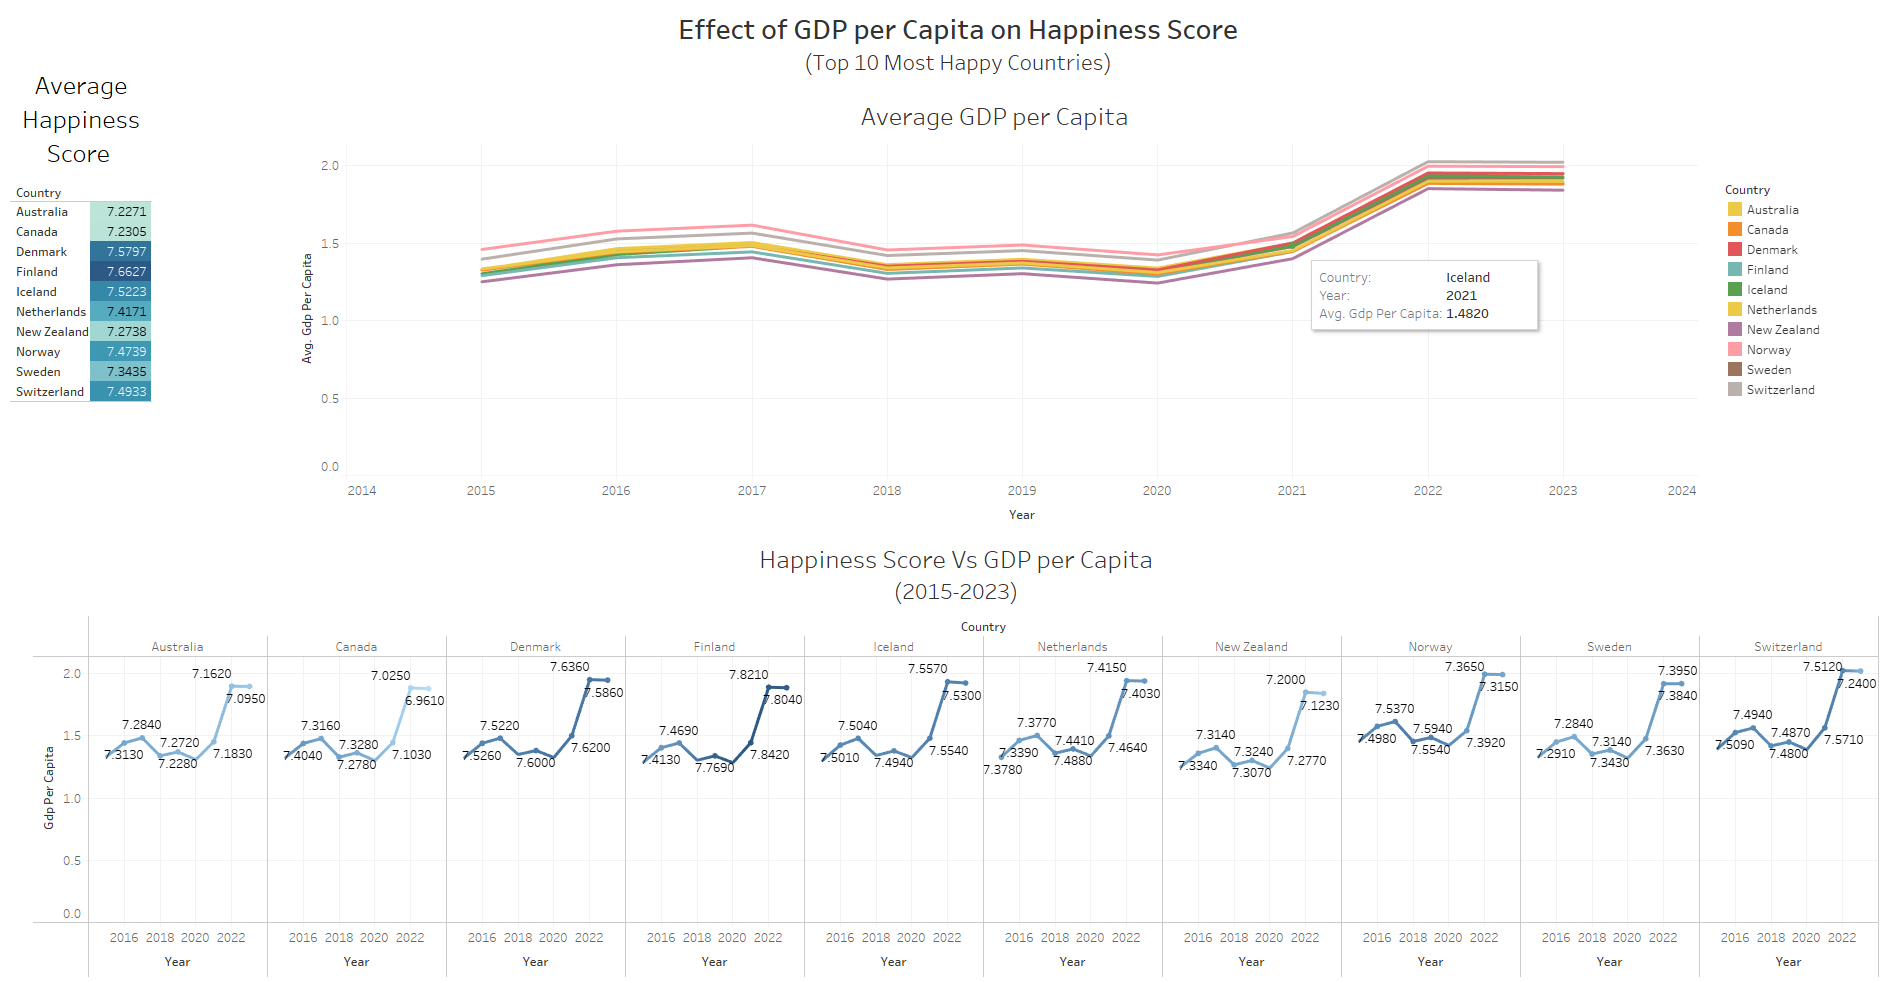

The dashboard page shown, as its layout file describes it:
{"tool":"tableau","page":{"name":"Happiness GDP Effect","canvas":[1000,1000],"units":"permille","ordinal":1},"visuals":[{"type":"title","box":[7,8,986,74]},{"type":"worksheet","title":"Top 10 Avg Happiness","mark":"Square","rows":["country"],"box":[6.1,65,145.1,459]},{"type":"worksheet","title":"Top 10 Happiness Avg GDP","mark":"Automatic","rows":["gdp_per_capita"],"cols":["year"],"box":[152.7,96,733,431]},{"type":"legend","title":"Top 10 Happiness Avg GDP","param":"[federated.1nnb5s81987nmd13ryej518t1e0h].[none:country:nk]","box":[899.5,181,90,242]},{"type":"worksheet","title":"Top 10 Happiness GDP by Country","mark":"Automatic","rows":["gdp_per_capita"],"cols":["country","year"],"box":[18.5,534.9,961.5,445.3]}]}

Visuals, with their boxes on the dashboard's canvas, which has no fixed pixel size, in thousandths of its width and height (x1, y1, x2, y2). These are canvas units, not pixel positions in the 1888x983 screenshot, which may show the page scaled, cropped or inside an application window:
title: 7/8/993/82
"Top 10 Avg Happiness" worksheet (Square marks): 6/65/151/524
"Top 10 Happiness Avg GDP" worksheet: 153/96/886/527
"Top 10 Happiness Avg GDP" legend: 900/181/990/423
"Top 10 Happiness GDP by Country" worksheet: 18/535/980/980
